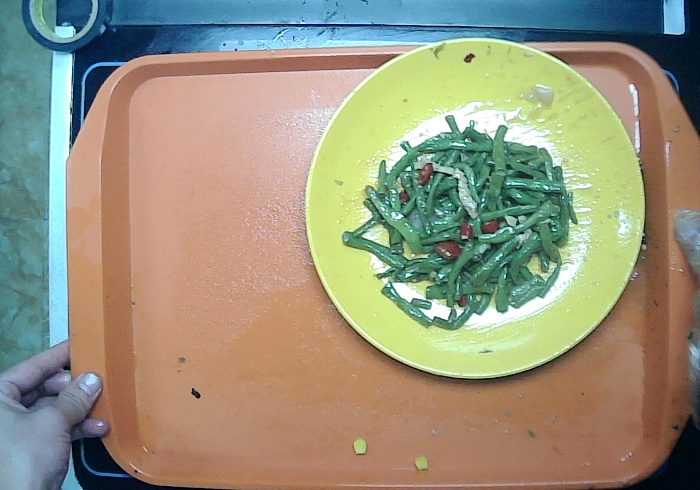HZYJPL-Huang_Se_Yuan_Pan: (289, 31, 655, 391)
